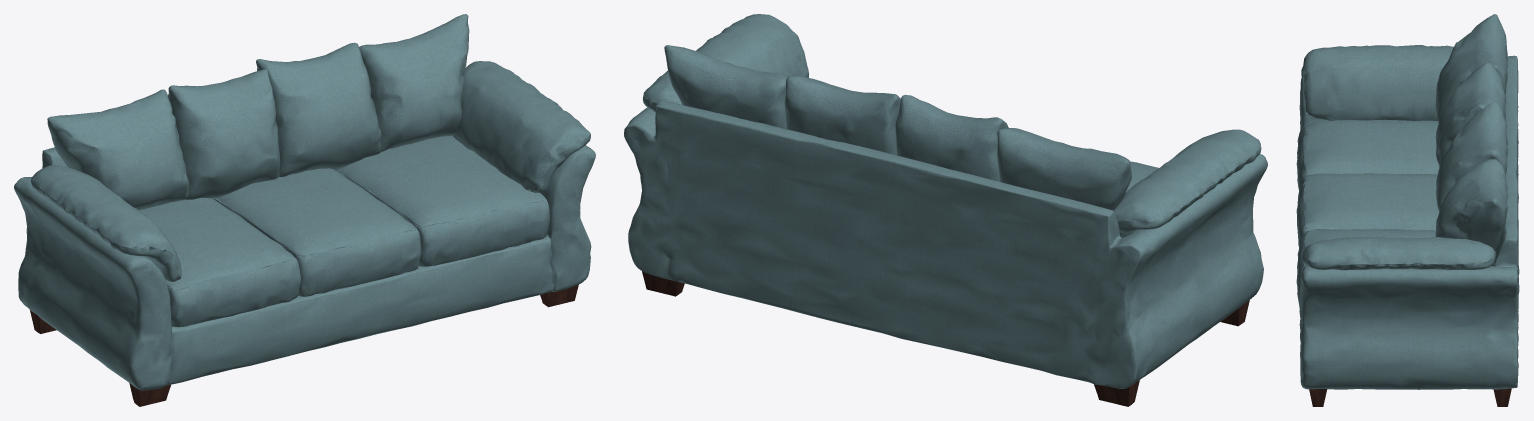
File: ALCT3246.obj
3 renders of one model, left to right at view 1: azimuth 30°, elevation 25°; view 2: azimuth 150°, elevation 25°; view 3: azimuth 270°, elevation 25°, orthographic. The views are drawn at different scales.
Visible parts, largest first — view 1: not_clear_obj_1_v6, not_clear_obj_0_v6; view 2: not_clear_obj_1_v6, not_clear_obj_0_v6; view 3: not_clear_obj_1_v6, not_clear_obj_0_v6.
Boxes of the visible parts, x1,y1,x2,y2 form: not_clear_obj_1_v6: (14, 14, 595, 390); not_clear_obj_0_v6: (30, 284, 578, 406); not_clear_obj_1_v6: (624, 14, 1267, 388); not_clear_obj_0_v6: (642, 271, 1249, 406); not_clear_obj_1_v6: (1296, 14, 1519, 389); not_clear_obj_0_v6: (1309, 388, 1511, 406).
Size of what is drawn, in the model's own units: 226 by 102 by 99.41.
